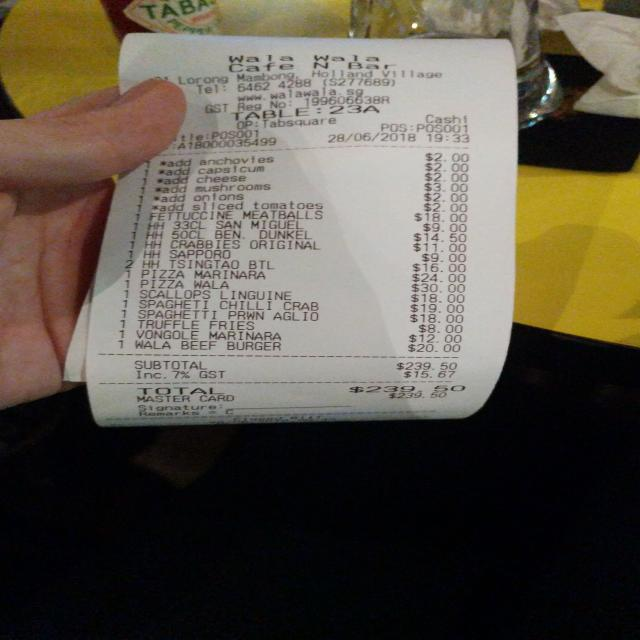bill_region: (131, 152, 479, 397)
